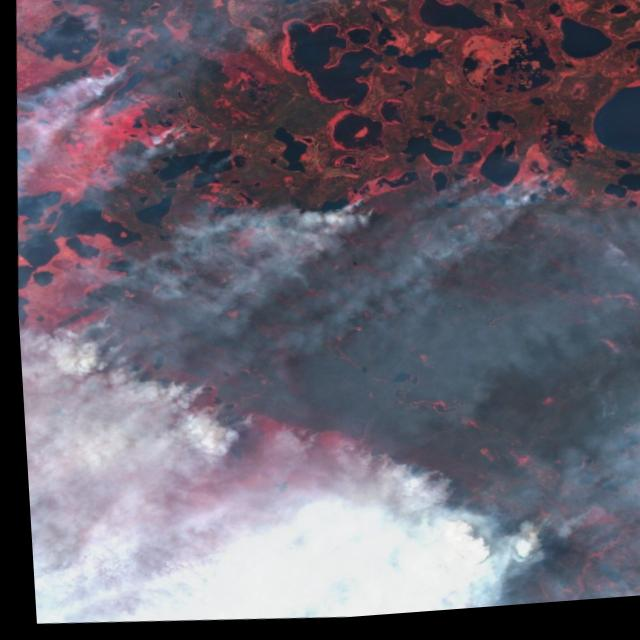fire: (80, 314, 607, 577), (37, 34, 213, 152), (220, 173, 387, 257), (446, 163, 596, 241), (23, 485, 56, 531)
